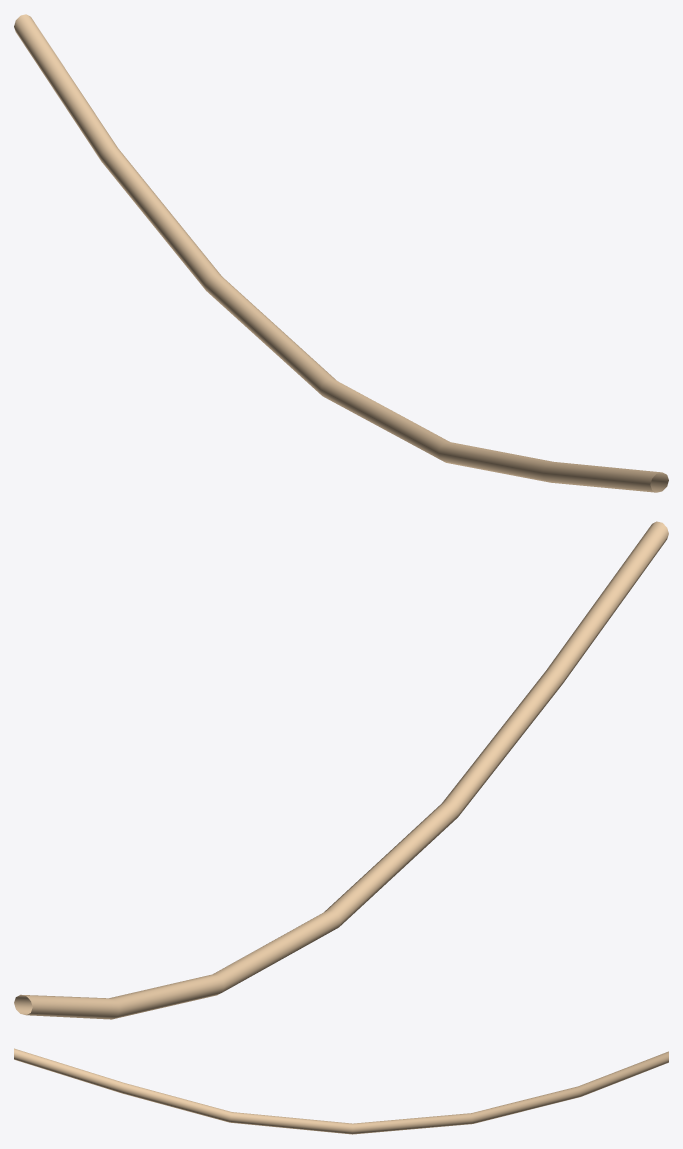
File: bridge_piece_rope_01.fbx
3 renders of one model, top to bottom at view 1: azimuth 30°, elevation 25°; view 2: azimuth 150°, elevation 25°; view 3: azimuth 270°, elevation 25°, orthographic. The views are drawn at different scales.
Parts seen in each view (by area): view 1: bridge_piece_rope_01; view 2: bridge_piece_rope_01; view 3: bridge_piece_rope_01.
Boxes of the visible parts, x1=… form: bridge_piece_rope_01: x1=14, y1=14, x2=668, y2=492; bridge_piece_rope_01: x1=14, y1=521, x2=668, y2=1019; bridge_piece_rope_01: x1=14, y1=1048, x2=668, y2=1134.
Bounding box in the file's own units: 6.38 × 50.11 × 350.
